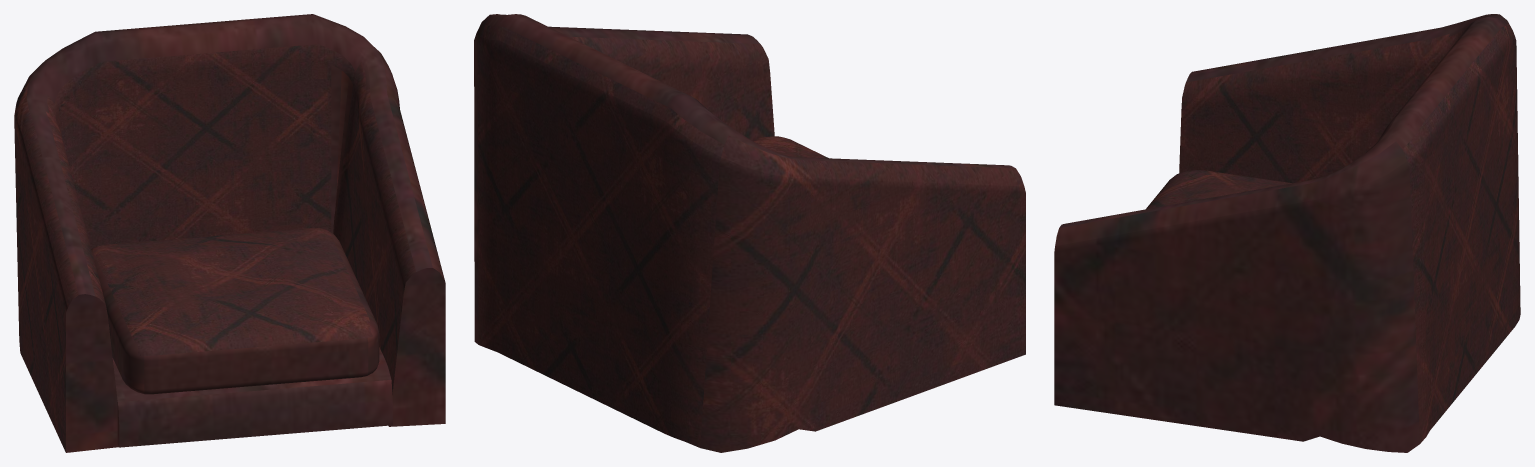
Rendered from SofaV2.fbx.
3 views of the same model, side by side, from view 1: azimuth 30°, elevation 25°; view 2: azimuth 150°, elevation 25°; view 3: azimuth 270°, elevation 25° (orthographic). The views are drawn at different scales.
Parts seen in each view (by area): view 1: pCube82; view 2: pCube82; view 3: pCube82.
Part boxes in pixels (<box>): pCube82: <box>14,14,445,452</box>; pCube82: <box>474,14,1025,452</box>; pCube82: <box>1054,14,1520,452</box>.
Size of the model in its own units: 163 by 116 by 153.
